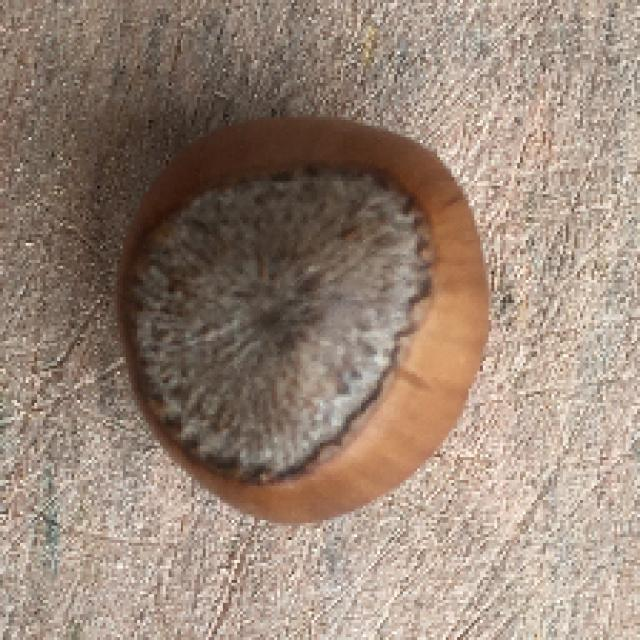DamagedHazelnut: (114, 118, 489, 532)
